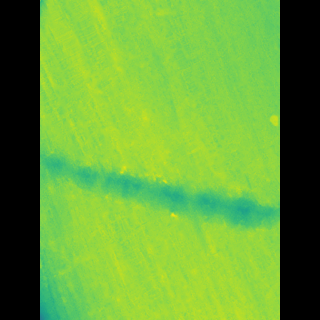Loch: (77, 140, 248, 239)
